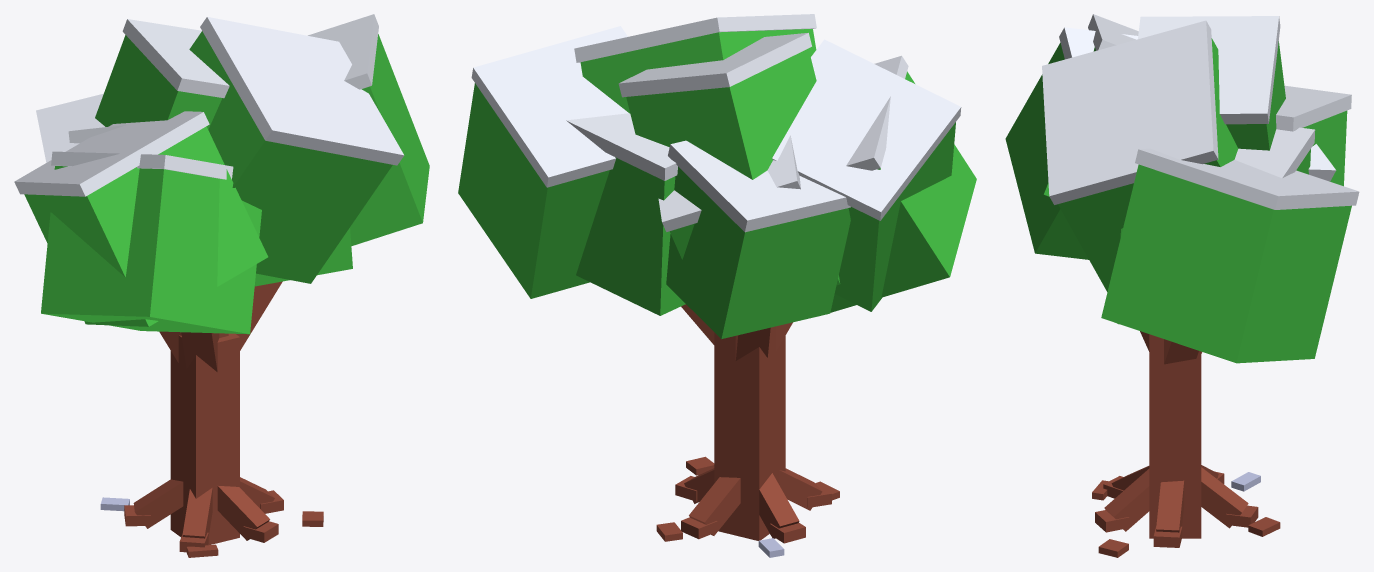
File: SnowTree.fbx
3 views of the same model, side by side, from view 1: azimuth 30°, elevation 25°; view 2: azimuth 150°, elevation 25°; view 3: azimuth 270°, elevation 25° (orthographic). The views are drawn at different scales.
Parts seen in each view (by area): view 1: LeafGreen.006, Snow, Bark.001; view 2: LeafGreen.006, Snow, Bark.001; view 3: LeafGreen.006, Snow, Bark.001.
Part boxes in pixels (left/top/right/bottom): LeafGreen.006: left=24, top=31, right=429, bottom=334; Snow: left=14, top=14, right=404, bottom=196; Bark.001: left=124, top=281, right=323, bottom=557; LeafGreen.006: left=458, top=29, right=976, bottom=338; Snow: left=471, top=14, right=961, bottom=232; Bark.001: left=656, top=304, right=839, bottom=543; LeafGreen.006: left=1005, top=38, right=1351, bottom=363; Snow: left=1042, top=14, right=1359, bottom=209; Bark.001: left=1092, top=331, right=1280, bottom=557.
Size of the model in its own units: 17.75 by 19.63 by 12.21.
